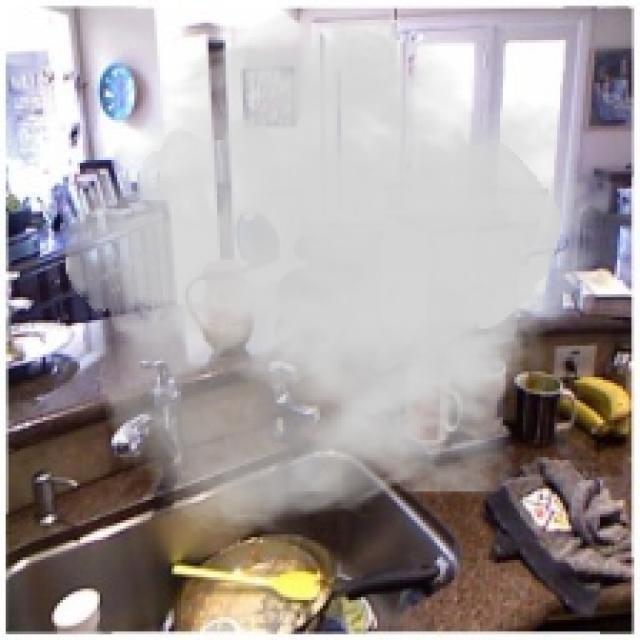smoke: (63, 3, 617, 540)
